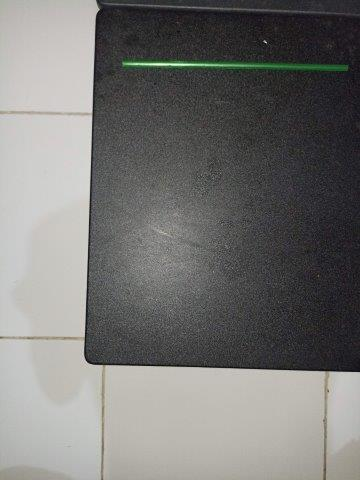sedotan: (121, 59, 348, 71)
